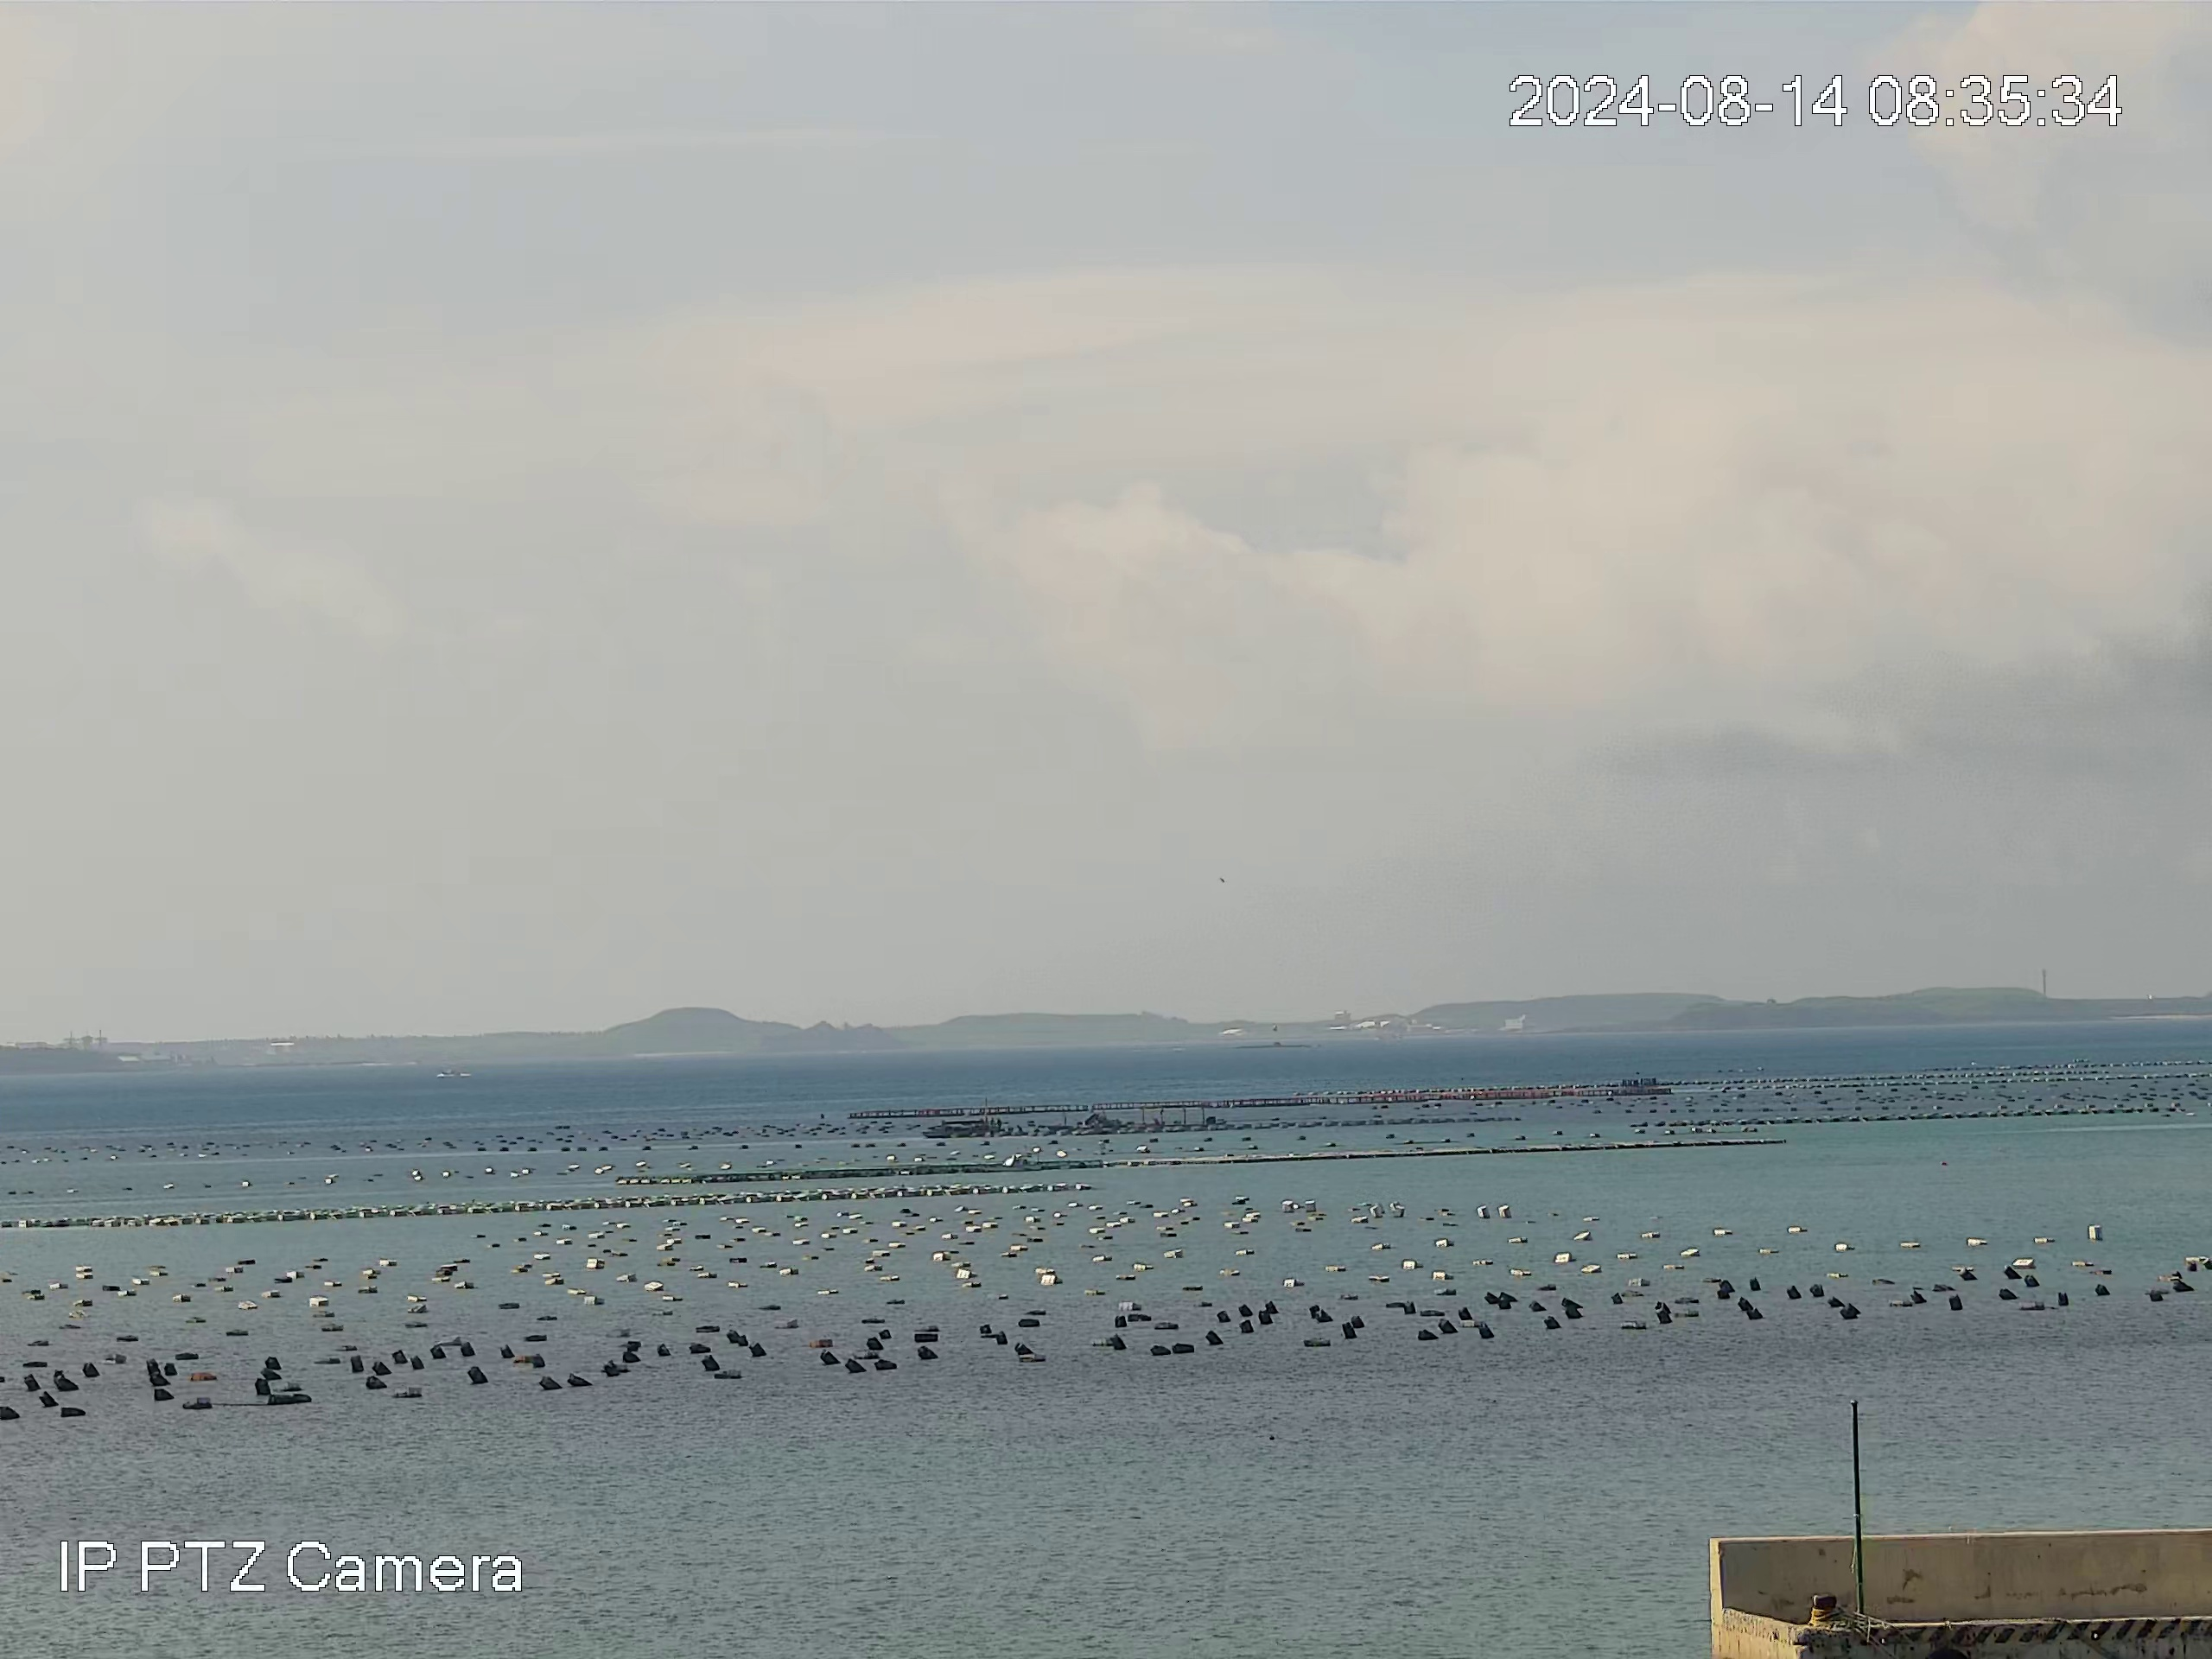boat: (923, 1119, 988, 1136)
